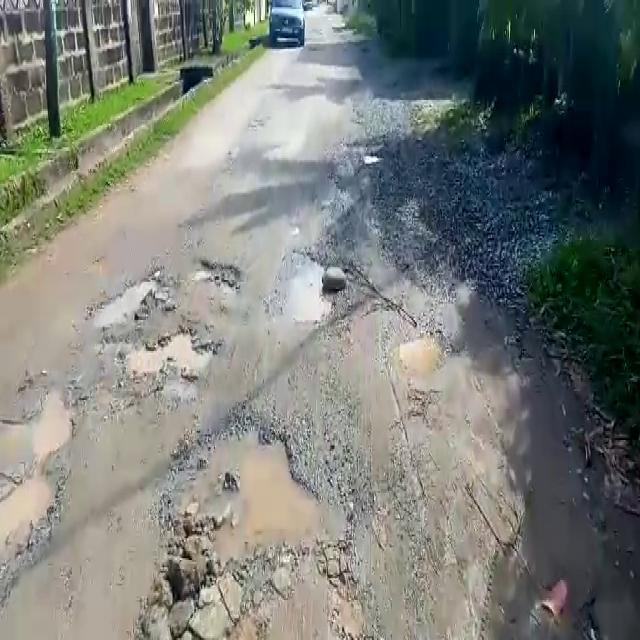pothole: (163, 422, 334, 555), (0, 461, 62, 579), (3, 386, 80, 464), (119, 327, 222, 382), (92, 267, 176, 334), (277, 255, 334, 327), (397, 329, 443, 374), (195, 255, 244, 290)
